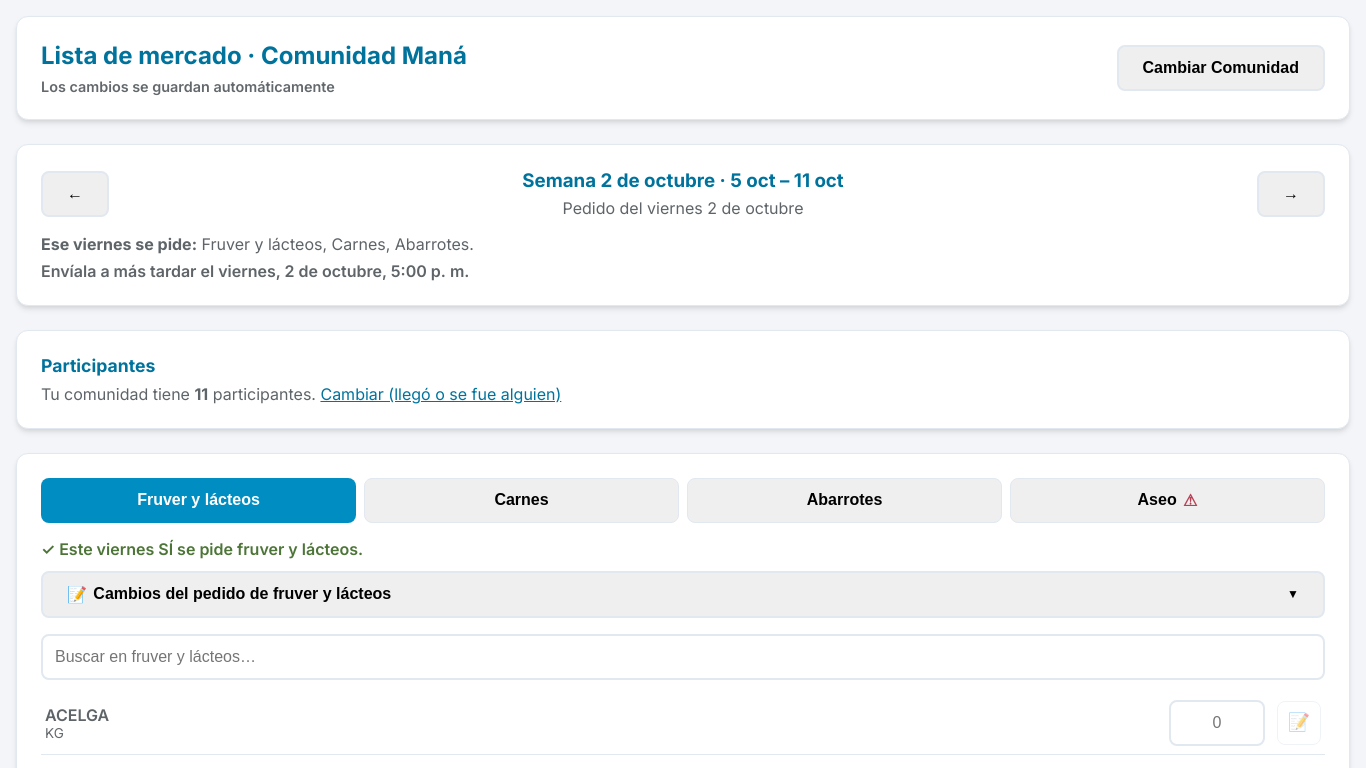
lista de mercado: sin internet › el aviso rojo no parpadea mientras se reintenta
Type "2" into the field labelled "ACELGA KG" at {"x": 1217, "y": 723}, box [1169,700,1265,746]
Wait 19700 ms
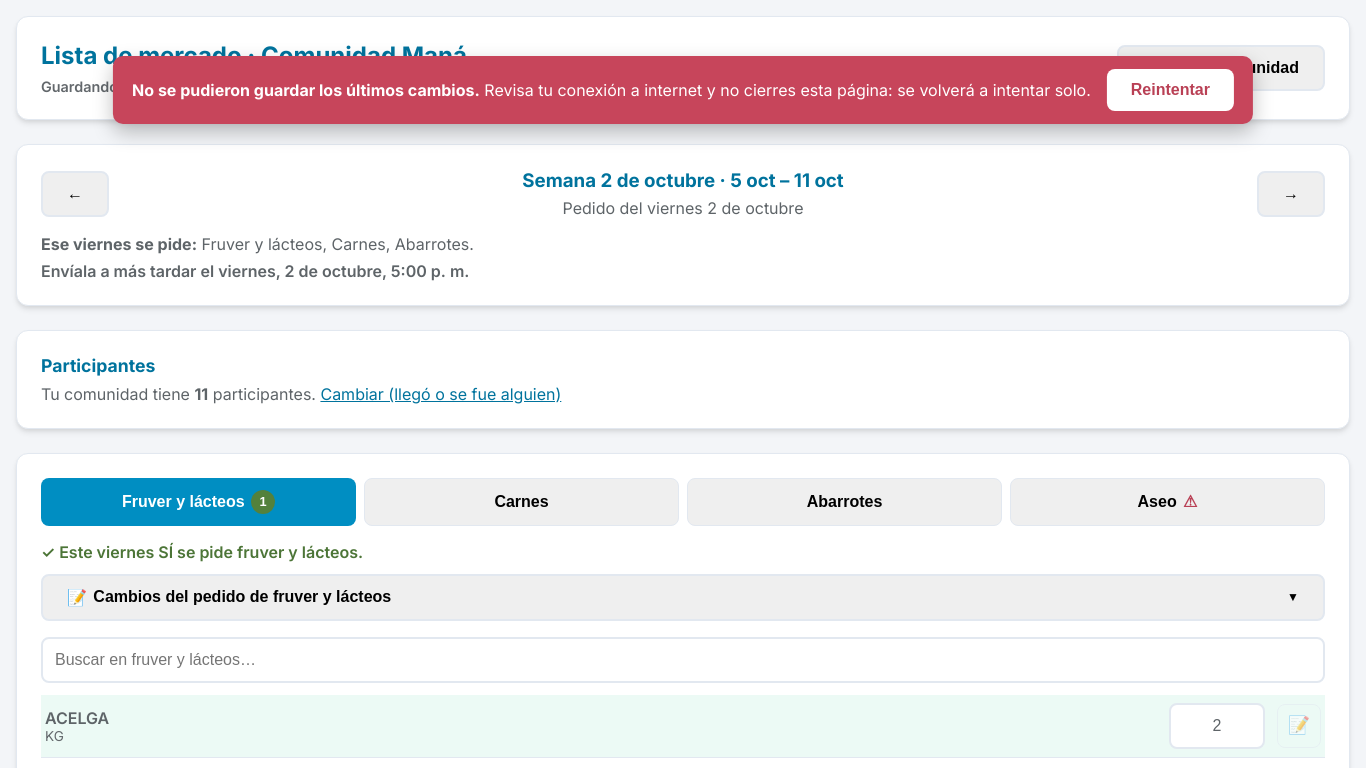
Now the text "Guardando…" is shown, box [41,78,132,95]
Now the message with class "kardex-save-banner" is shown, box [113,56,1253,124]
